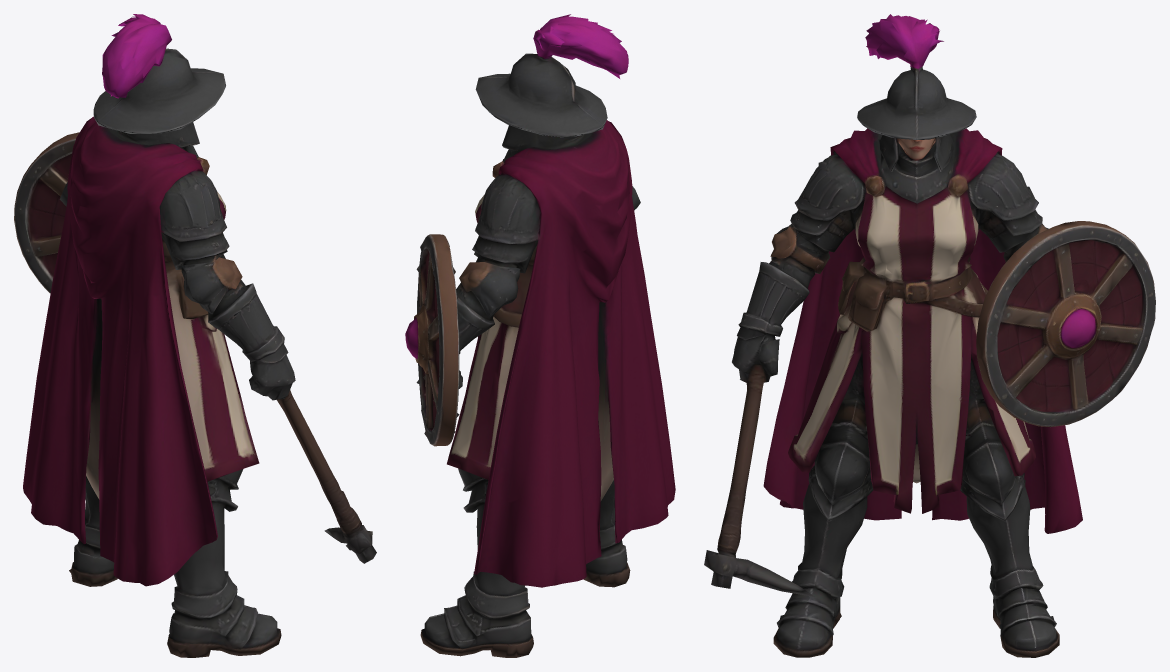
File: model_tripo_h31.glb
3 views of the same model, side by side, from view 1: azimuth 30°, elevation 25°; view 2: azimuth 150°, elevation 25°; view 3: azimuth 270°, elevation 25° (orthographic).
Visible parts, largest first — view 1: tripo_node_1c0f5e07-5c2a-4eae-9fa9-27f3a192fac6; view 2: tripo_node_1c0f5e07-5c2a-4eae-9fa9-27f3a192fac6; view 3: tripo_node_1c0f5e07-5c2a-4eae-9fa9-27f3a192fac6.
Boxes of the visible parts, bbox=[...] form: tripo_node_1c0f5e07-5c2a-4eae-9fa9-27f3a192fac6: bbox=[14, 14, 376, 657]; tripo_node_1c0f5e07-5c2a-4eae-9fa9-27f3a192fac6: bbox=[405, 14, 675, 657]; tripo_node_1c0f5e07-5c2a-4eae-9fa9-27f3a192fac6: bbox=[704, 14, 1155, 657].
Bounding box in the file's own units: 0.3547 × 1 × 0.6829.
Materials: 1 (1 with a texture image).
